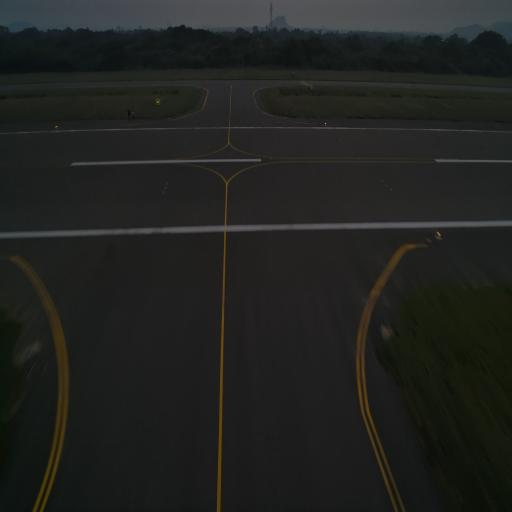on: (435, 227, 443, 242), (52, 123, 57, 131)
